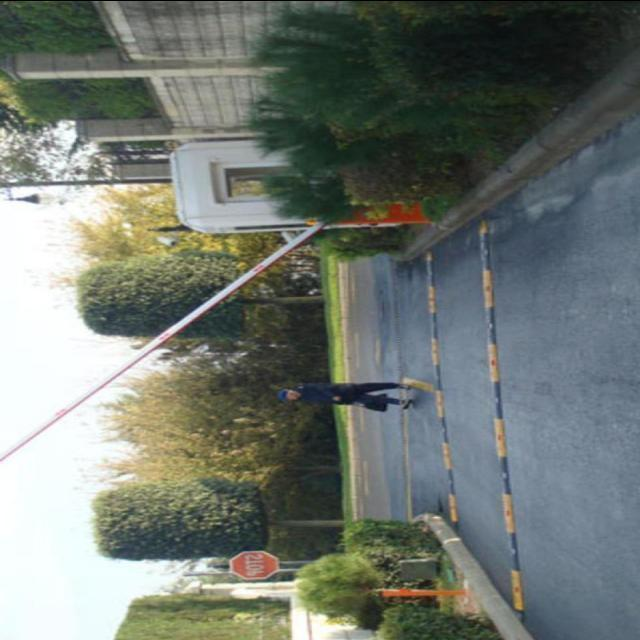Speed_Breaker: (475, 203, 529, 616), (479, 220, 524, 622), (418, 233, 462, 522), (425, 253, 457, 524)
